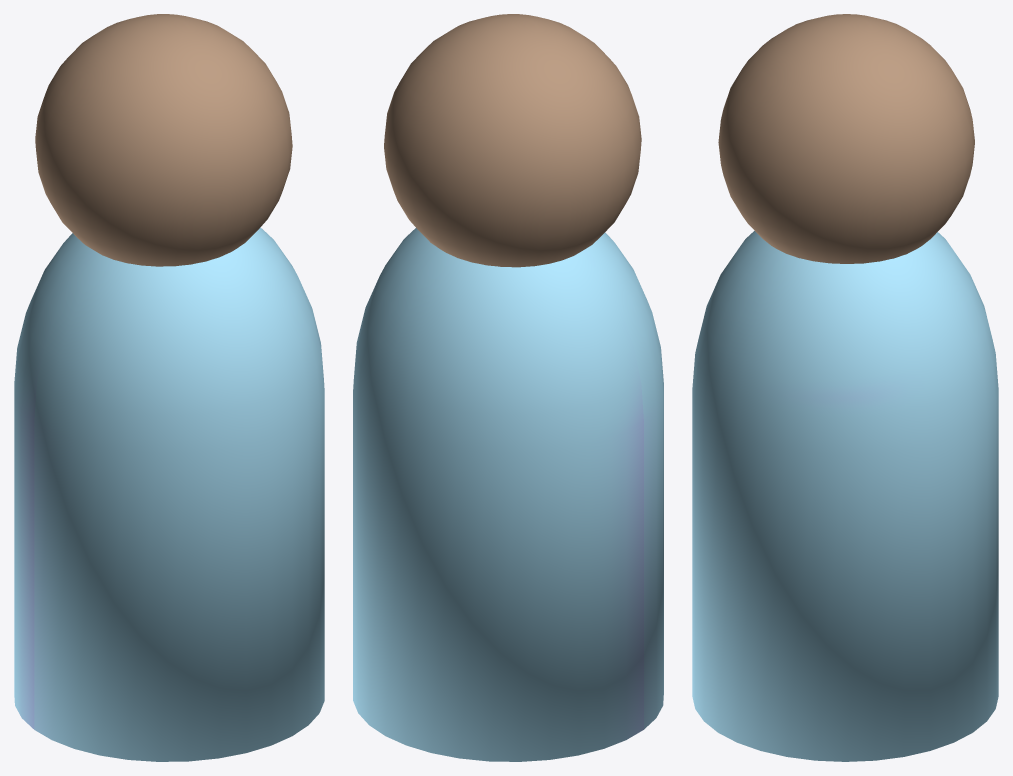
The model's file is Doll2.fbx.
3 renders of one model, left to right at view 1: azimuth 30°, elevation 25°; view 2: azimuth 150°, elevation 25°; view 3: azimuth 270°, elevation 25°, orthographic.
Visible parts, largest first — view 1: Doll2; view 2: Doll2; view 3: Doll2.
Boxes of the visible parts, x1=… form: Doll2: x1=14, y1=14, x2=324, y2=761; Doll2: x1=353, y1=14, x2=663, y2=761; Doll2: x1=692, y1=14, x2=998, y2=761.
Size of the model in its own units: 150 by 355 by 148.
1 material, 1 textured.
